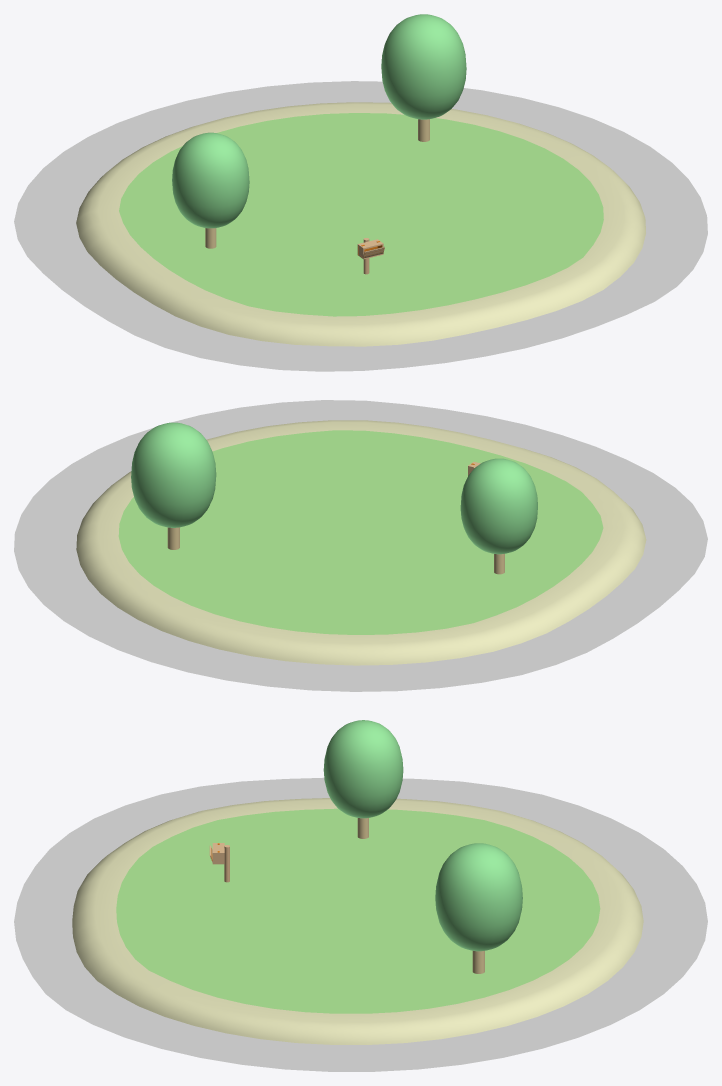
File: Island05.glb
The picture shows the model from 3 angles, top to bottom: view 1: azimuth 30°, elevation 25°; view 2: azimuth 150°, elevation 25°; view 3: azimuth 270°, elevation 25°; orthographic projection. The views are drawn at different scales.
Visible parts, largest first — view 1: Land, OuterSea, Tree02, Tree01, Mail; view 2: Land, OuterSea, Tree02, Tree01; view 3: Land, OuterSea, Tree02, Tree01.
Boxes of the visible parts, x1=… form: Land: x1=76, y1=102, x2=645, y2=346; OuterSea: x1=14, y1=81, x2=707, y2=371; Tree02: x1=381, y1=14, x2=466, y2=141; Tree01: x1=172, y1=132, x2=249, y2=248; Mail: x1=357, y1=238, x2=384, y2=274; Land: x1=76, y1=420, x2=646, y2=665; OuterSea: x1=14, y1=400, x2=707, y2=691; Tree02: x1=131, y1=422, x2=216, y2=549; Tree01: x1=460, y1=458, x2=537, y2=574; Land: x1=72, y1=798, x2=643, y2=1044; OuterSea: x1=14, y1=777, x2=707, y2=1071; Tree02: x1=435, y1=843, x2=522, y2=973; Tree01: x1=323, y1=720, x2=403, y2=838.
Size of the model in its own units: 4.22 by 0.9552 by 4.21.
